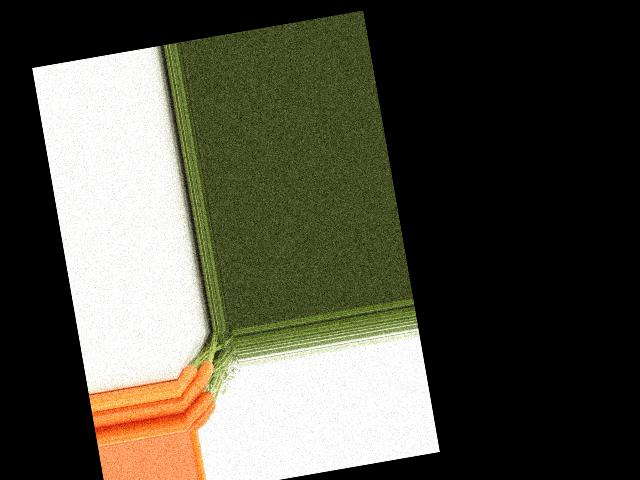carrot: (174, 363, 202, 395)
